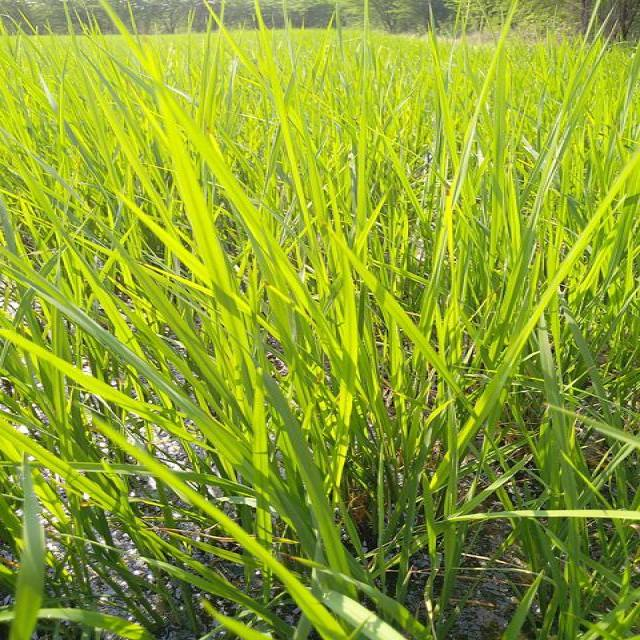Rice: (271, 286, 356, 602), (526, 306, 592, 640), (536, 154, 638, 306), (449, 303, 515, 506), (400, 313, 466, 512), (160, 84, 219, 294), (276, 88, 332, 296), (364, 274, 406, 506), (330, 231, 363, 506), (215, 264, 267, 437), (253, 422, 277, 593)
